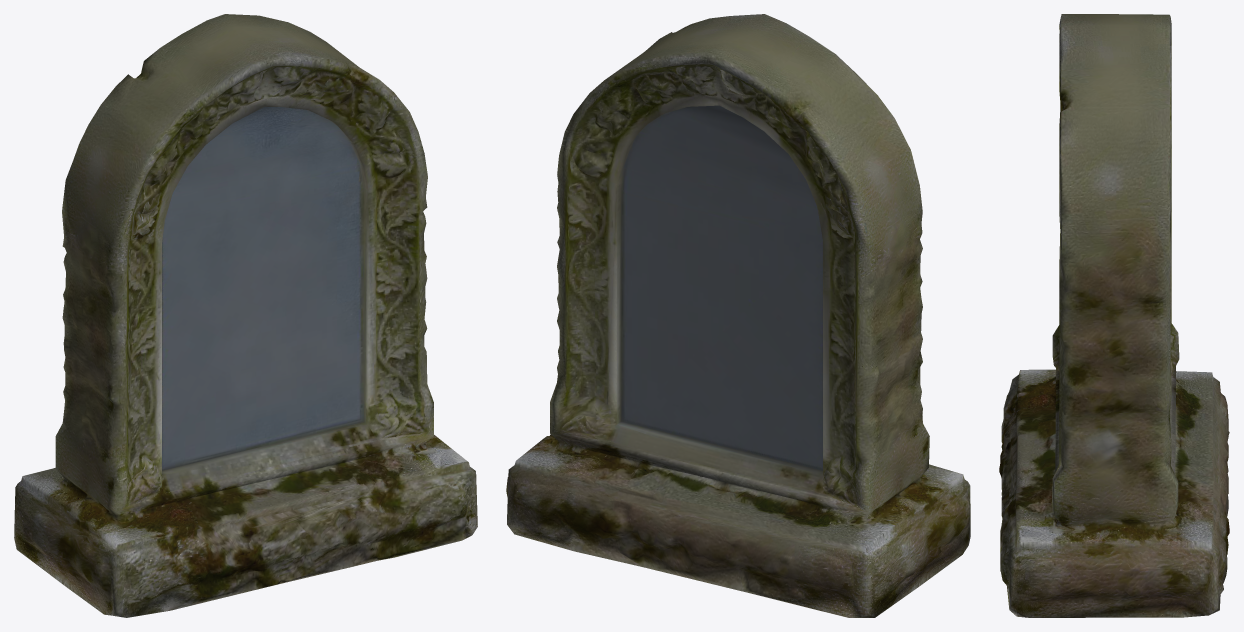
File: selected.glb
3 views of the same model, side by side, from view 1: azimuth 30°, elevation 25°; view 2: azimuth 150°, elevation 25°; view 3: azimuth 270°, elevation 25° (orthographic).
Visible parts, largest first — view 1: tripo_node_9f0e5b8b-3446-4f85-90a6-b47a75316974; view 2: tripo_node_9f0e5b8b-3446-4f85-90a6-b47a75316974; view 3: tripo_node_9f0e5b8b-3446-4f85-90a6-b47a75316974.
Part boxes in pixels (x1,y1,x2,y2): tripo_node_9f0e5b8b-3446-4f85-90a6-b47a75316974: [14, 14, 477, 617]; tripo_node_9f0e5b8b-3446-4f85-90a6-b47a75316974: [506, 14, 970, 617]; tripo_node_9f0e5b8b-3446-4f85-90a6-b47a75316974: [999, 14, 1229, 617].
Bounding box in the file's own units: 0.7832 × 0.998 × 0.4121.
Materials: 1 (1 with a texture image).
